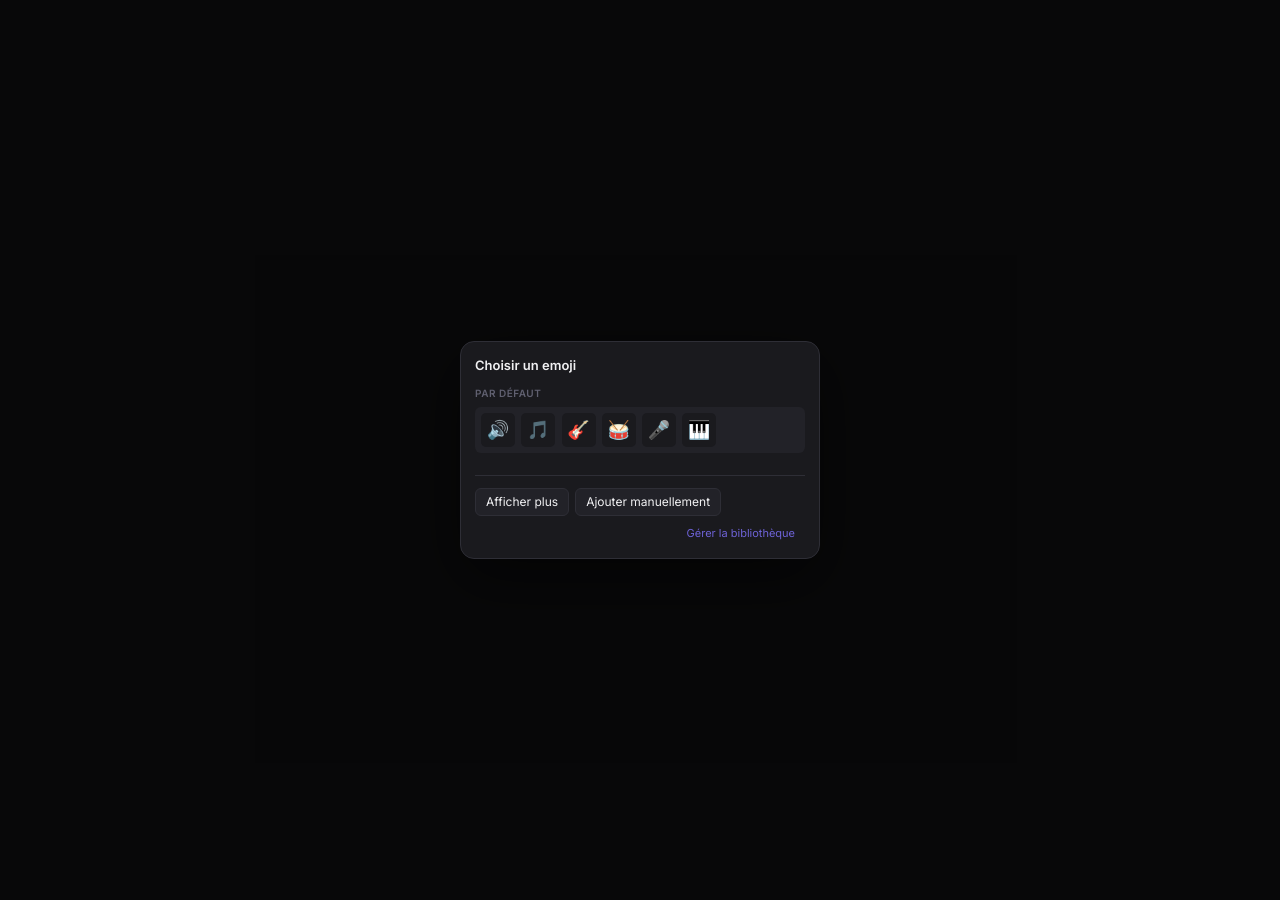
Test: EmojiPicker > Ajout manuel › bouton "Ajouter manuellement" ouvre input
Click the button with test id "emoji-picker-add-manual-button". click: (648, 502)
box: 575,488 -> 721,516
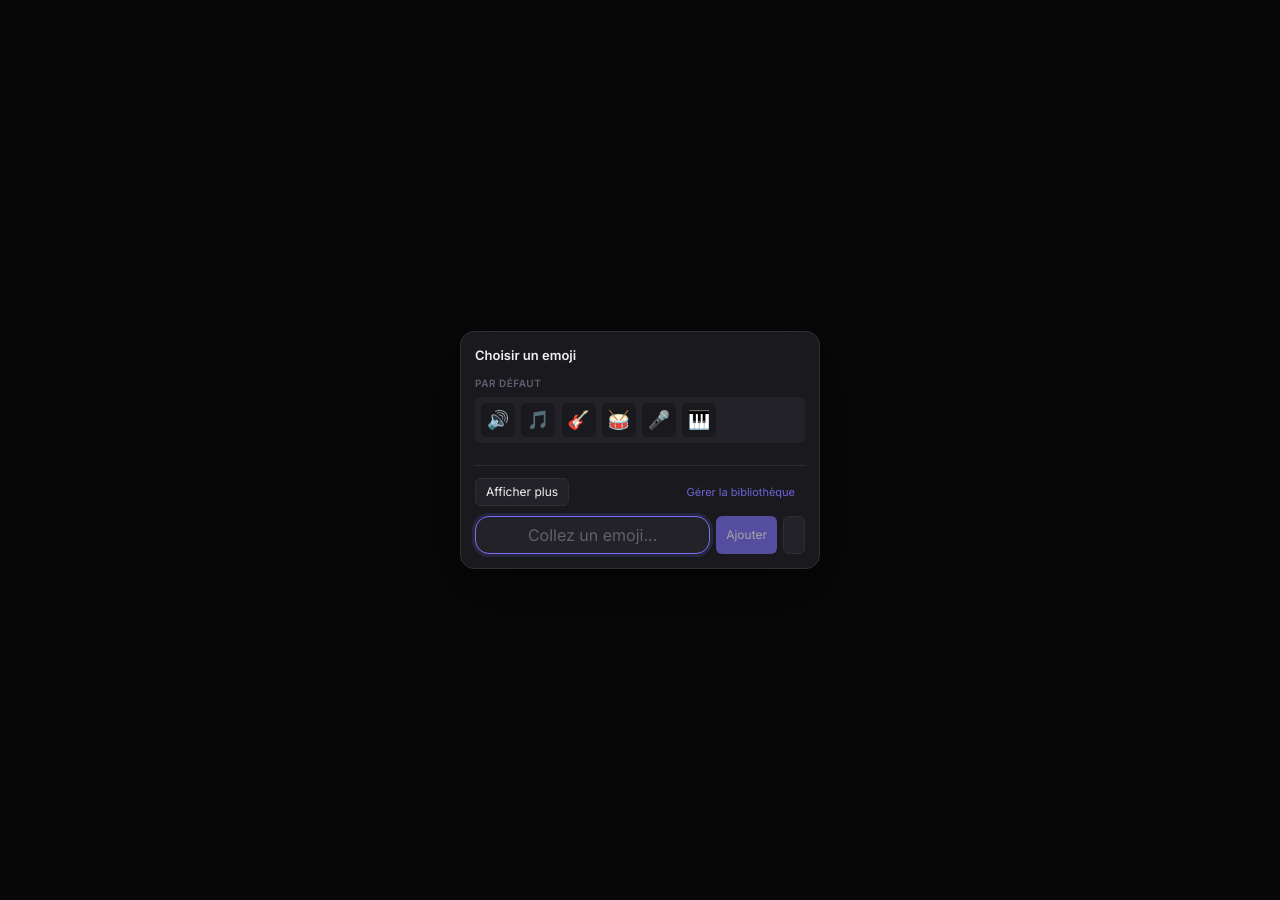
Now the field with test id "emoji-picker-add-manual-input" is shown, box 475,516 -> 710,554
